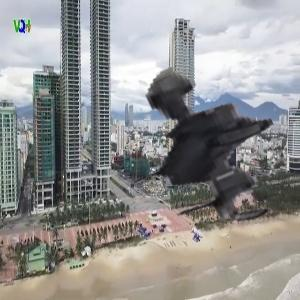drone: (81, 58, 280, 257)
